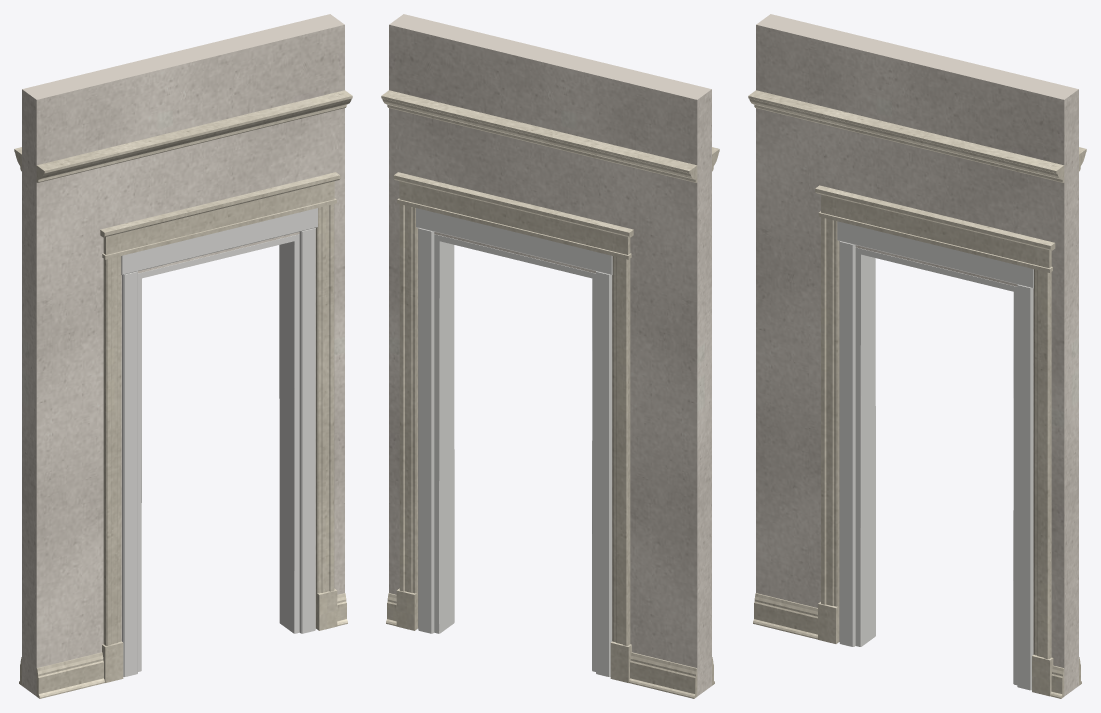
Rendered from iw_end_doorway.glb.
The picture shows the model from 3 angles, left to right: view 1: azimuth 30°, elevation 25°; view 2: azimuth 150°, elevation 25°; view 3: azimuth 330°, elevation 25°; orthographic projection.
Parts seen in each view (by area): view 1: iw_end_doorway_plaster, molduras, iw_end_doorway_frame; view 2: iw_end_doorway_plaster, molduras, iw_end_doorway_frame; view 3: iw_end_doorway_plaster, molduras, iw_end_doorway_frame.
Boxes of the visible parts, x1=… form: iw_end_doorway_plaster: x1=22, y1=14, x2=344, y2=696; molduras: x1=14, y1=90, x2=352, y2=698; iw_end_doorway_frame: x1=121, y1=208, x2=317, y2=676; iw_end_doorway_plaster: x1=389, y1=14, x2=711, y2=696; molduras: x1=381, y1=90, x2=719, y2=698; iw_end_doorway_frame: x1=416, y1=208, x2=612, y2=676; iw_end_doorway_plaster: x1=756, y1=14, x2=1078, y2=696; molduras: x1=748, y1=90, x2=1086, y2=698; iw_end_doorway_frame: x1=837, y1=221, x2=1033, y2=690.
Bounding box in the file's own units: 1.7 × 3.14 × 0.29.
3 materials, 2 textured.
